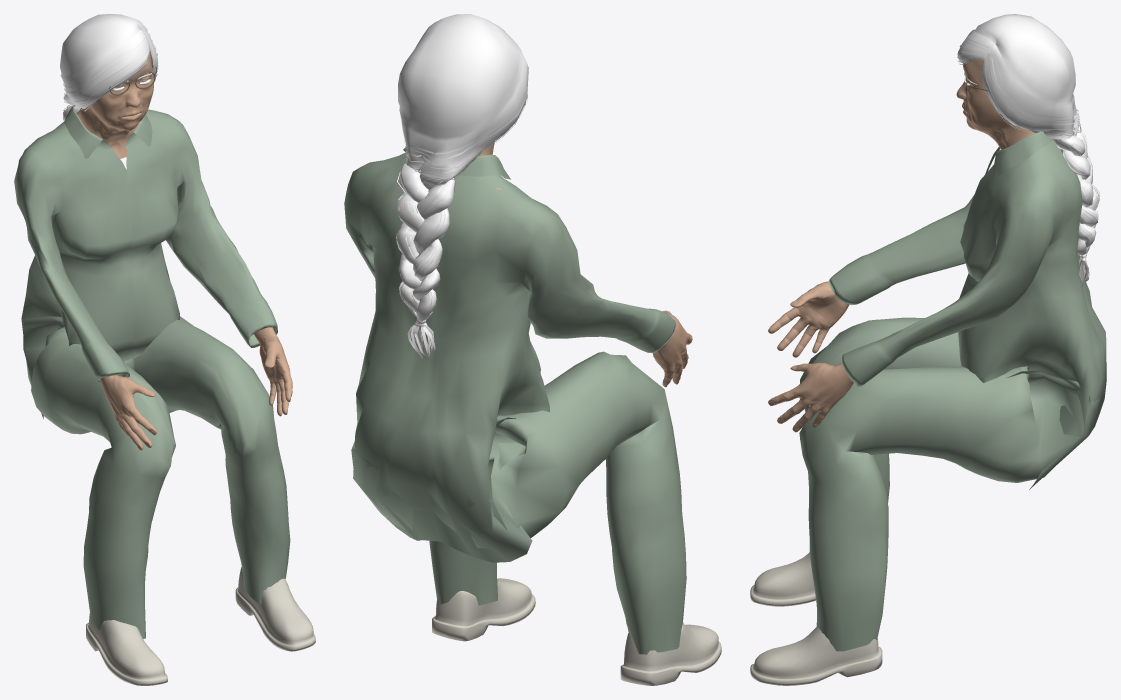
The model's file is elder-woman-seated.glb.
3 views of the same model, side by side, from view 1: azimuth 30°, elevation 25°; view 2: azimuth 150°, elevation 25°; view 3: azimuth 270°, elevation 25° (orthographic). The views are drawn at different scales.
Parts seen in each view (by area): view 1: CC0 fitted clothes/male_casualsuit03/male_casualsuit03, smooth human anatomy with per-corner UV seams, CC0 fitted clothes/shoes04/shoes04, CC0 fitted hair/braid01/braid01; view 2: CC0 fitted clothes/male_casualsuit03/male_casualsuit03, CC0 fitted hair/braid01/braid01, CC0 fitted clothes/shoes04/shoes04, smooth human anatomy with per-corner UV seams; view 3: CC0 fitted clothes/male_casualsuit03/male_casualsuit03, CC0 fitted hair/braid01/braid01, smooth human anatomy with per-corner UV seams, CC0 fitted clothes/shoes04/shoes04.
Boxes of the visible parts, box(x1,y1,x2,y2) form: CC0 fitted clothes/male_casualsuit03/male_casualsuit03: box(14, 105, 290, 638); smooth human anatomy with per-corner UV seams: box(55, 51, 292, 450); CC0 fitted clothes/shoes04/shoes04: box(85, 567, 315, 685); CC0 fitted hair/braid01/braid01: box(60, 14, 158, 120); CC0 fitted clothes/male_casualsuit03/male_casualsuit03: box(344, 147, 686, 654); CC0 fitted hair/braid01/braid01: box(396, 14, 528, 360); CC0 fitted clothes/shoes04/shoes04: box(432, 578, 721, 685); smooth human anatomy with per-corner UV seams: box(479, 141, 692, 387); CC0 fitted clothes/male_casualsuit03/male_casualsuit03: box(799, 131, 1106, 651); CC0 fitted hair/braid01/braid01: box(957, 14, 1099, 286); smooth human anatomy with per-corner UV seams: box(768, 59, 1035, 432); CC0 fitted clothes/shoes04/shoes04: box(750, 552, 882, 685).
Bounding box in the file's own units: 0.4531 × 1.27 × 0.6602.
